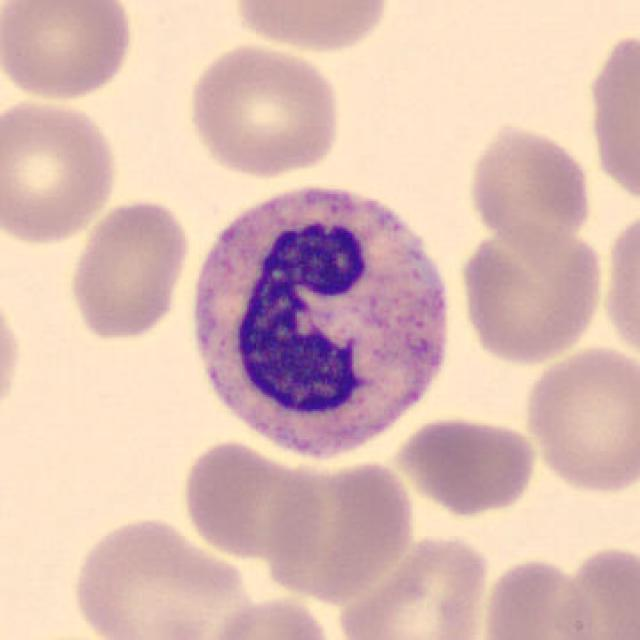Neutrophil: (178, 173, 466, 476), (178, 171, 464, 476)
RBC: (68, 513, 258, 640), (262, 455, 419, 605), (181, 39, 347, 180), (455, 222, 608, 369), (64, 196, 194, 342), (0, 94, 123, 248), (462, 116, 596, 256), (178, 437, 329, 561), (519, 342, 638, 497), (332, 530, 492, 640), (388, 412, 540, 518), (0, 0, 139, 104), (475, 553, 601, 640), (583, 23, 638, 215), (229, 0, 395, 55), (549, 539, 639, 640), (193, 592, 339, 640), (599, 202, 640, 366), (0, 279, 27, 432)
